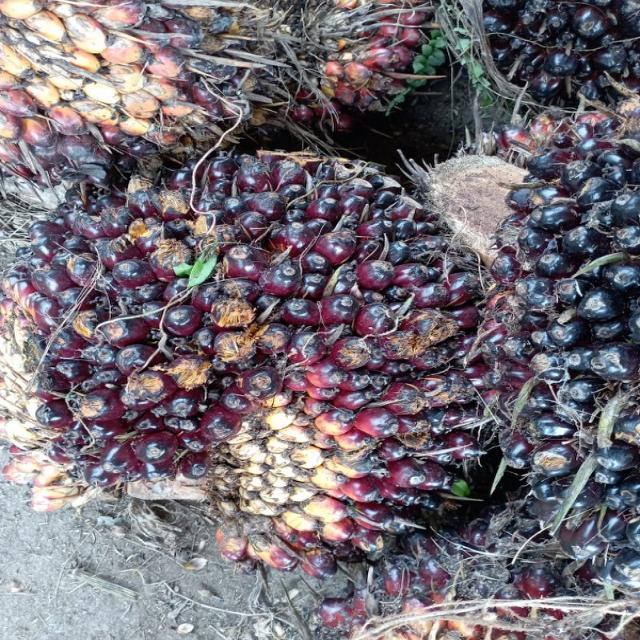fraksi 1: (32, 128, 500, 558)
